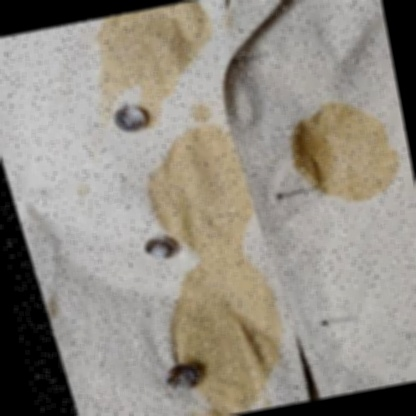coffee: (163, 128, 260, 255), (88, 1, 214, 93), (167, 259, 273, 361), (293, 104, 400, 204)
